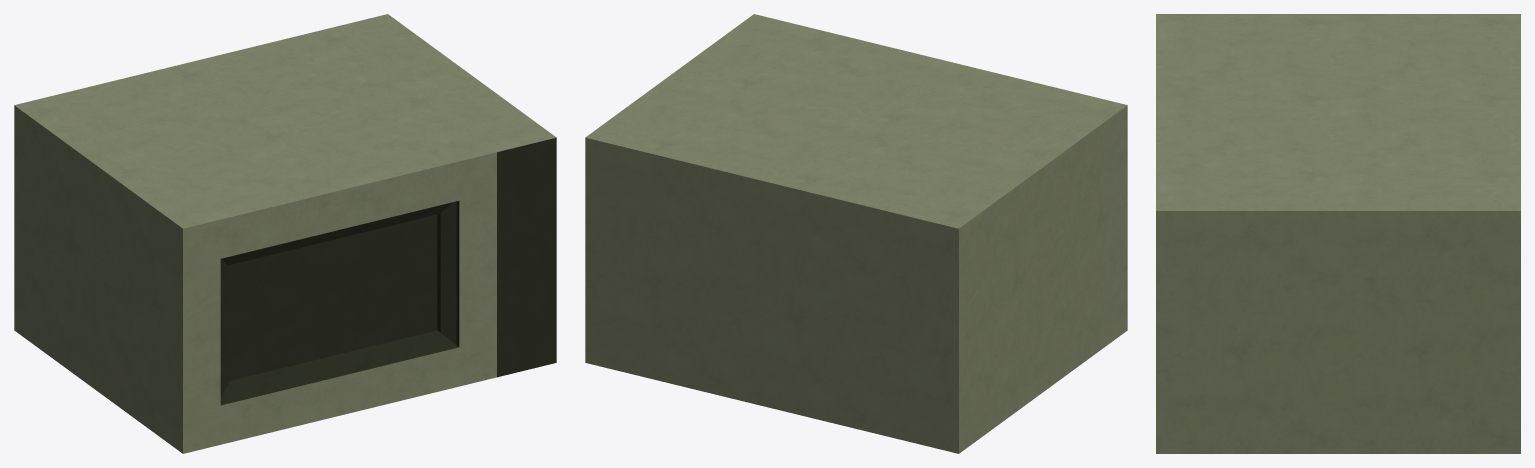
File: LGSeochoB1ConvenienceStoreMicroWave.fbx
The picture shows the model from 3 angles, left to right: view 1: azimuth 30°, elevation 25°; view 2: azimuth 150°, elevation 25°; view 3: azimuth 270°, elevation 25°; orthographic projection. The views are drawn at different scales.
Parts seen in each view (by area): view 1: LGSeochoB1ConvenienceStorePlastic; view 2: LGSeochoB1ConvenienceStorePlastic; view 3: LGSeochoB1ConvenienceStorePlastic.
Boxes of the visible parts, x1,y1,x2,y2 form: LGSeochoB1ConvenienceStorePlastic: (14, 14, 556, 453); LGSeochoB1ConvenienceStorePlastic: (585, 14, 1127, 453); LGSeochoB1ConvenienceStorePlastic: (1156, 14, 1520, 453).
Bounding box in the file's own units: 59.78 × 34.42 × 46.8.
Materials: 1 (1 with a texture image).
